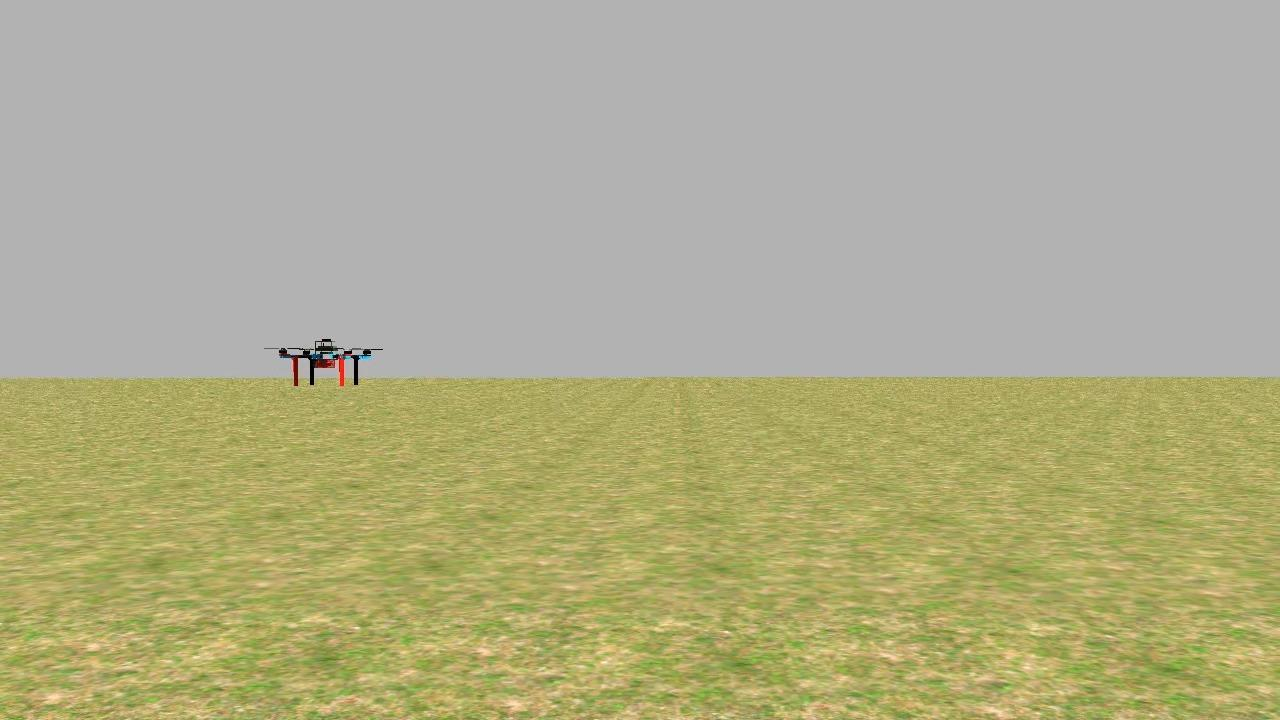UAV: (274, 334, 380, 395)
